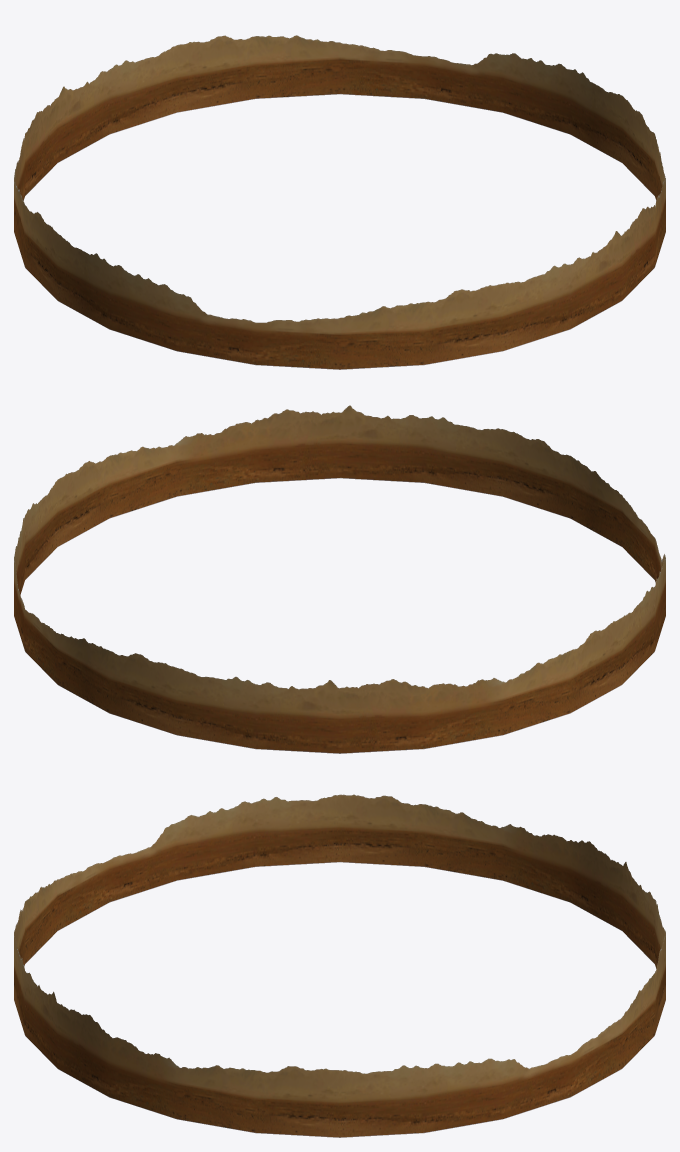
Rendered from mars_mountains.dae.
3 renders of one model, top to bottom at view 1: azimuth 30°, elevation 25°; view 2: azimuth 150°, elevation 25°; view 3: azimuth 270°, elevation 25°, orthographic.
Visible parts, largest first — view 1: Plane003; view 2: Plane003; view 3: Plane003.
Part boxes in pixels (<box>): Plane003: <box>14,35,665,369</box>; Plane003: <box>14,405,665,753</box>; Plane003: <box>14,794,665,1137</box>.
Size of the model in its own units: 331 by 331 by 44.95.
1 material, 1 textured.
